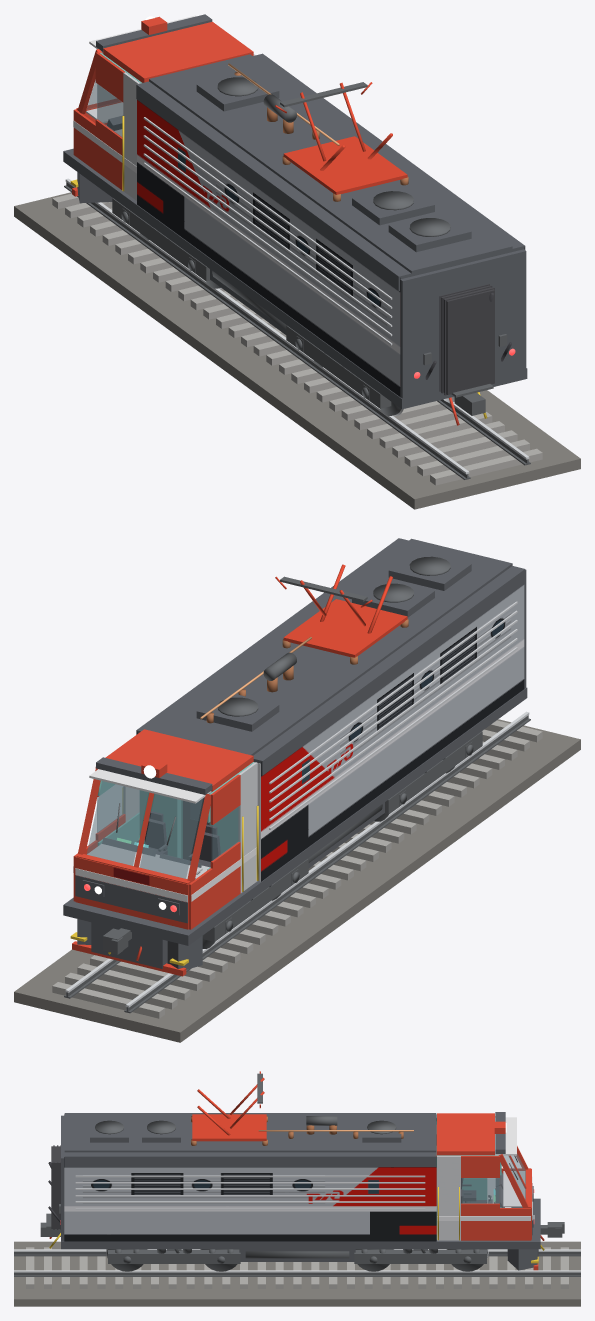
The model's file is ermak_3es5k.glb.
The picture shows the model from 3 angles, top to bottom: view 1: azimuth 30°, elevation 25°; view 2: azimuth 150°, elevation 25°; view 3: azimuth 270°, elevation 25°; orthographic projection. The views are drawn at different scales.
Parts seen in each view (by area): view 1: Ermak_3ES5K_Body, Railway_Track, Ermak_Rear_Gangway, Ermak_Roof_Equipment, Ermak_Bogies, Ermak_Windows, Ermak_Cab_Interior; view 2: Ermak_3ES5K_Body, Railway_Track, Ermak_Roof_Equipment, Ermak_Windows, Ermak_Cab_Interior, Ermak_Bogies, Ermak_Lights, Ermak_Couplers; view 3: Ermak_3ES5K_Body, Railway_Track, Ermak_Roof_Equipment, Ermak_Bogies, Ermak_Cab_Interior, Ermak_Rear_Gangway, Ermak_Windows, Ermak_Couplers.
Part boxes in pixels (x1,y1,x2,y2): Ermak_3ES5K_Body: [63, 14, 527, 409]; Railway_Track: [14, 178, 580, 509]; Ermak_Rear_Gangway: [400, 249, 526, 425]; Ermak_Roof_Equipment: [196, 63, 471, 252]; Ermak_Bogies: [112, 198, 454, 416]; Ermak_Windows: [86, 81, 123, 137]; Ermak_Cab_Interior: [86, 15, 196, 136]; Ermak_3ES5K_Body: [63, 538, 527, 976]; Railway_Track: [14, 711, 580, 1042]; Ermak_Roof_Equipment: [196, 550, 471, 731]; Ermak_Windows: [87, 781, 239, 878]; Ermak_Cab_Interior: [87, 762, 254, 879]; Ermak_Bogies: [202, 731, 482, 948]; Ermak_Lights: [82, 759, 179, 915]; Ermak_Couplers: [103, 928, 141, 961]; Ermak_3ES5K_Body: [61, 1112, 540, 1270]; Railway_Track: [14, 1241, 580, 1306]; Ermak_Roof_Equipment: [90, 1071, 413, 1145]; Ermak_Bogies: [106, 1249, 488, 1271]; Ermak_Cab_Interior: [436, 1117, 525, 1238]; Ermak_Rear_Gangway: [46, 1115, 64, 1248]; Ermak_Windows: [461, 1153, 526, 1203]; Ermak_Couplers: [40, 1222, 564, 1250].
Bounding box in the file's own units: 4.2 × 6.58 × 17.5.
Materials: 28 (3 with a texture image).
